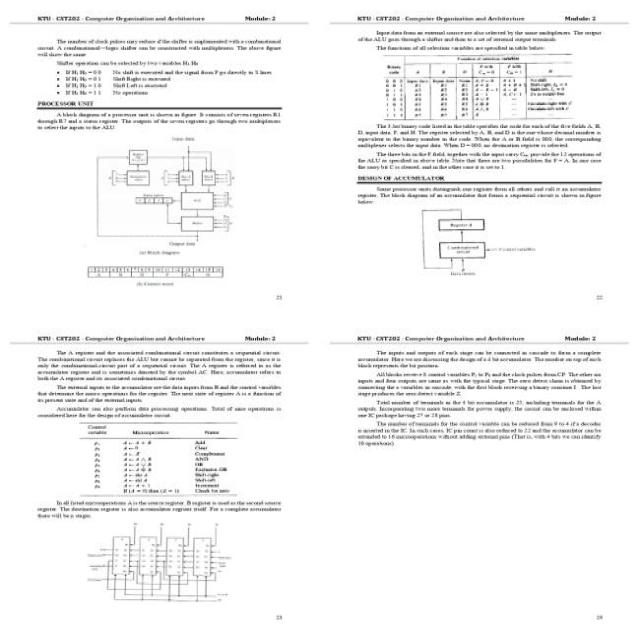Figure Detection - v3 Dataset Version2: (86, 134, 262, 249), (82, 518, 242, 611), (414, 202, 546, 292)
